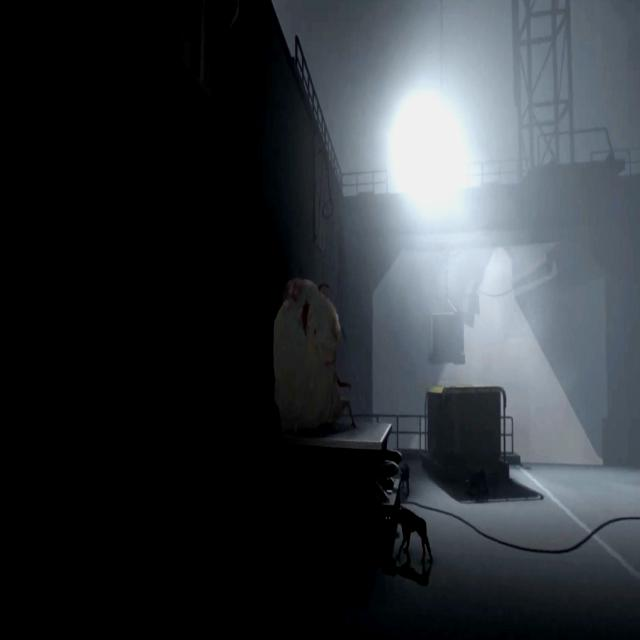blob: (274, 275, 356, 434)
dog: (394, 509, 432, 568), (464, 472, 489, 499), (400, 460, 410, 498)
mechanism: (258, 418, 390, 573)
structure: (513, 0, 576, 169), (296, 38, 343, 195), (340, 157, 520, 196), (389, 411, 425, 449), (501, 414, 513, 452)
